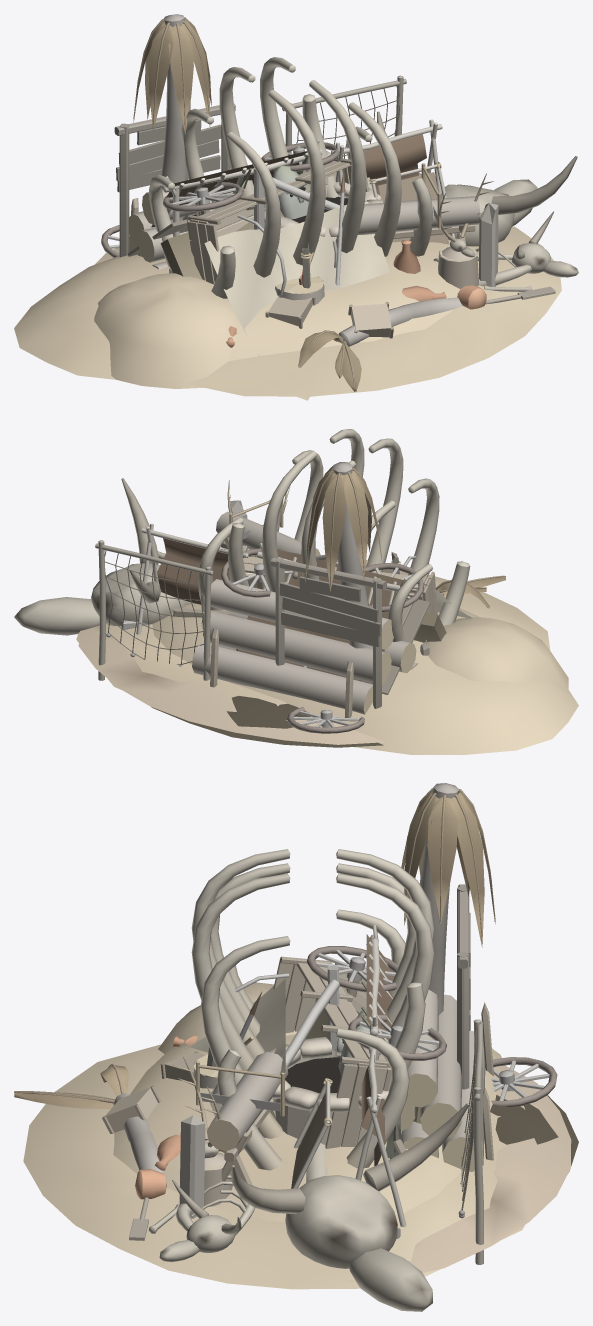
File: stories_warm.glb
3 renders of one model, top to bottom at view 1: azimuth 30°, elevation 25°; view 2: azimuth 150°, elevation 25°; view 3: azimuth 270°, elevation 25°, orthographic. The views are drawn at different scales.
Parts seen in each view (by area): view 1: story_ribs, story_caravan, story_oasis, story_boat, story_hunter, story_woodcut, story_shrine; view 2: story_ribs, story_boat, story_woodcut, story_oasis, story_caravan, story_hunter; view 3: story_ribs, story_caravan, story_oasis, story_woodcut, story_boat, story_hunter, story_shrine.
Part boxes in pixels (x1=…): story_ribs: x1=14, y1=57, x2=577, y2=388; story_caravan: x1=101, y1=142, x2=578, y2=400; story_oasis: x1=94, y1=14, x2=514, y2=391; story_boat: x1=114, y1=75, x2=555, y2=304; story_hunter: x1=151, y1=119, x2=493, y2=288; story_woodcut: x1=129, y1=151, x2=480, y2=305; story_shrine: x1=196, y1=166, x2=310, y2=288; story_ribs: x1=14, y1=429, x2=578, y2=754; story_boat: x1=95, y1=540, x2=446, y2=747; story_woodcut: x1=192, y1=500, x2=418, y2=717; story_oasis: x1=78, y1=462, x2=505, y2=744; story_caravan: x1=76, y1=545, x2=550, y2=733; story_hunter: x1=136, y1=480, x2=407, y2=684; story_ribs: x1=113, y1=849, x2=505, y2=1311; story_caravan: x1=23, y1=946, x2=557, y2=1289; story_oasis: x1=14, y1=783, x2=571, y2=1281; story_woodcut: x1=193, y1=989, x2=493, y2=1185; story_boat: x1=129, y1=884, x2=578, y2=1264; story_hunter: x1=172, y1=924, x2=406, y2=1227; story_shrine: x1=205, y1=1009, x2=403, y2=1158.
Size of the model in its own units: 6.88 by 3.54 by 5.09.
